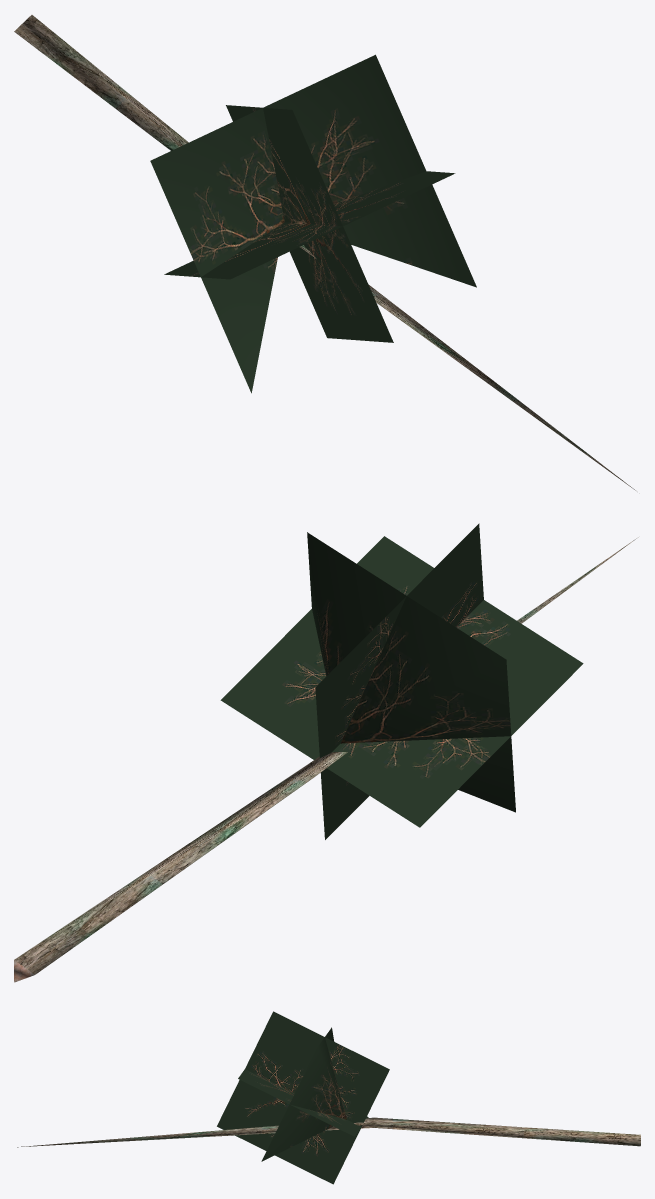
Rendered from decd_dogwoodlog_l2.fbx.
3 renders of one model, top to bottom at view 1: azimuth 30°, elevation 25°; view 2: azimuth 150°, elevation 25°; view 3: azimuth 270°, elevation 25°, orthographic. The views are drawn at different scales.
Parts seen in each view (by area): view 1: mesh_node; view 2: mesh_node; view 3: mesh_node.
Part boxes in pixels (left/top/right/bottom): mesh_node: left=14, top=15, right=635, bottom=490; mesh_node: left=14, top=523, right=638, bottom=982; mesh_node: left=17, top=1011, right=640, bottom=1184.
Size of the model in its own units: 2 by 2.16 by 8.17.
